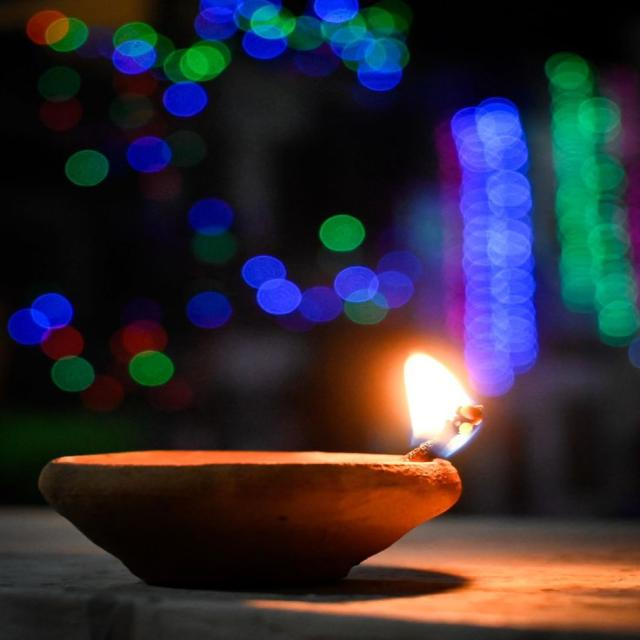fire: (402, 349, 489, 462)
